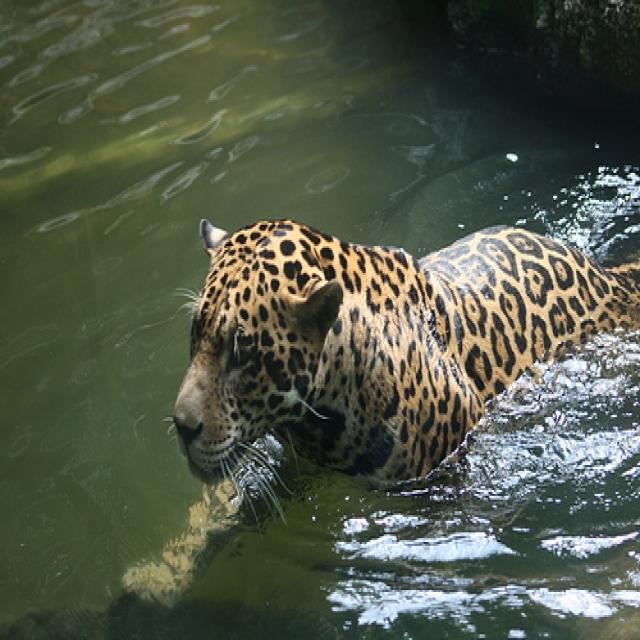Leopard: (114, 213, 637, 621)
